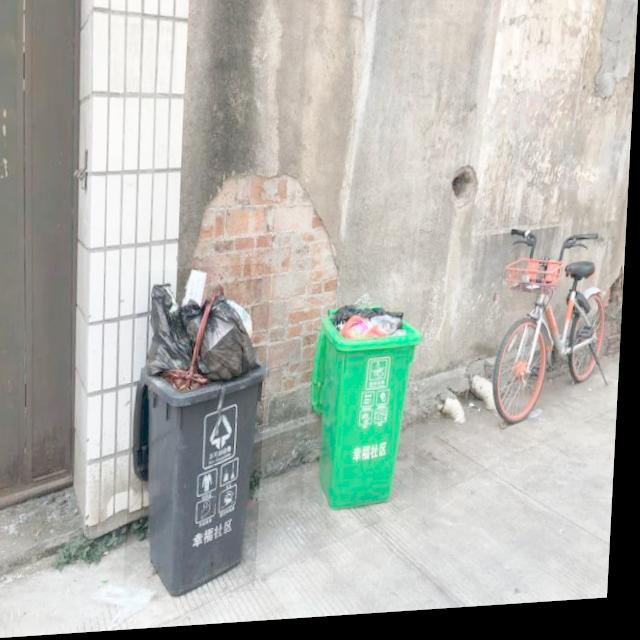overflow: (129, 267, 274, 602), (308, 293, 426, 516)
